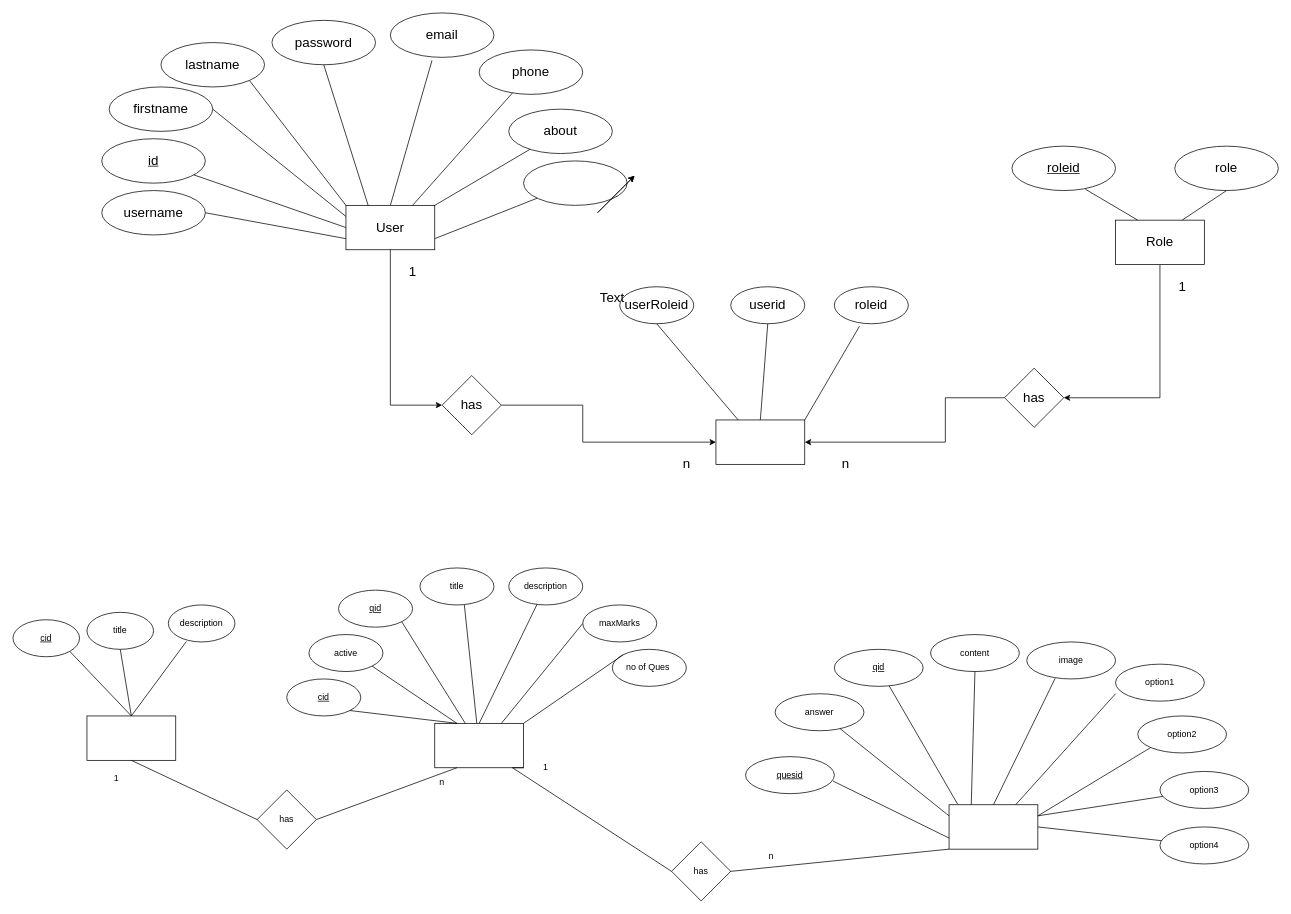
The diagram is 1291 pixels wide and 914 high, and some of its shapes have lost their labels. Here are the shapes that lost their labels. From the top down, the centre of each, then its label:
At point 575,182: "enable".
At point 760,441: "User_Role".
At point 131,737: "Category".
At point 479,745: "Quiz".
At point 993,826: "Quuestion".
